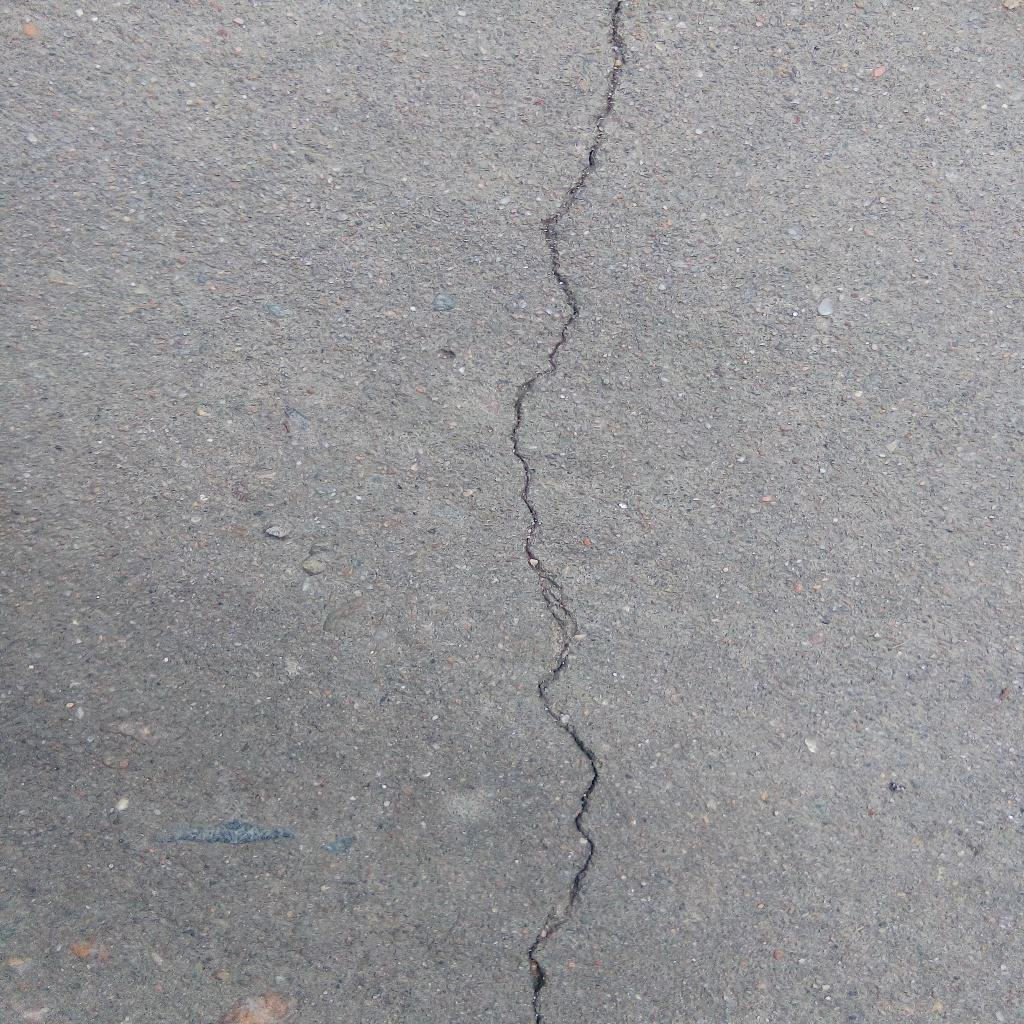Crack: (510, 1, 630, 1024)
